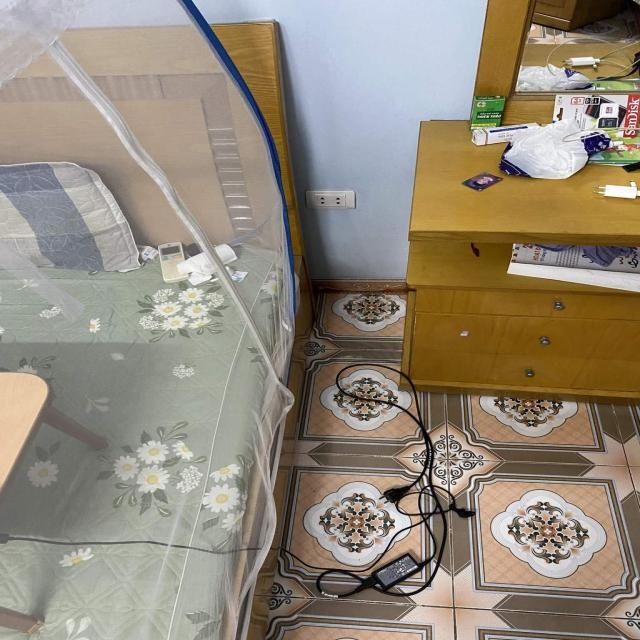outlet: (305, 190, 356, 209)
